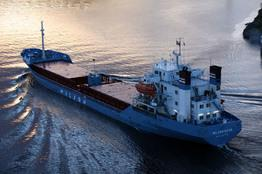Cargoship: (19, 19, 244, 145)
